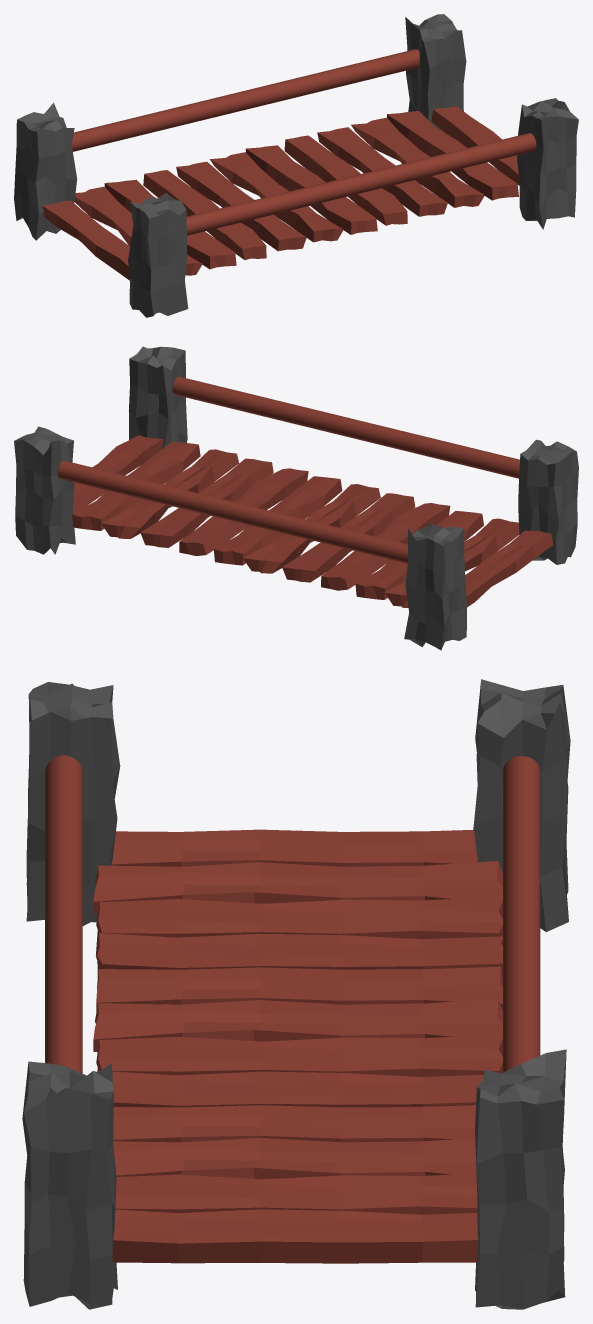
File: BRIDGE.fbx
3 views of the same model, one above another, from view 1: azimuth 30°, elevation 25°; view 2: azimuth 150°, elevation 25°; view 3: azimuth 270°, elevation 25° (orthographic). The views are drawn at different scales.
Visible parts, largest first — view 1: Bridge; view 2: Bridge; view 3: Bridge.
Part boxes in pixels (x1=…): Bridge: x1=14, y1=14, x2=578, y2=317; Bridge: x1=14, y1=346, x2=578, y2=650; Bridge: x1=22, y1=679, x2=570, y2=1309.
Bounding box in the file's own units: 38.39 × 10.15 × 21.14.
